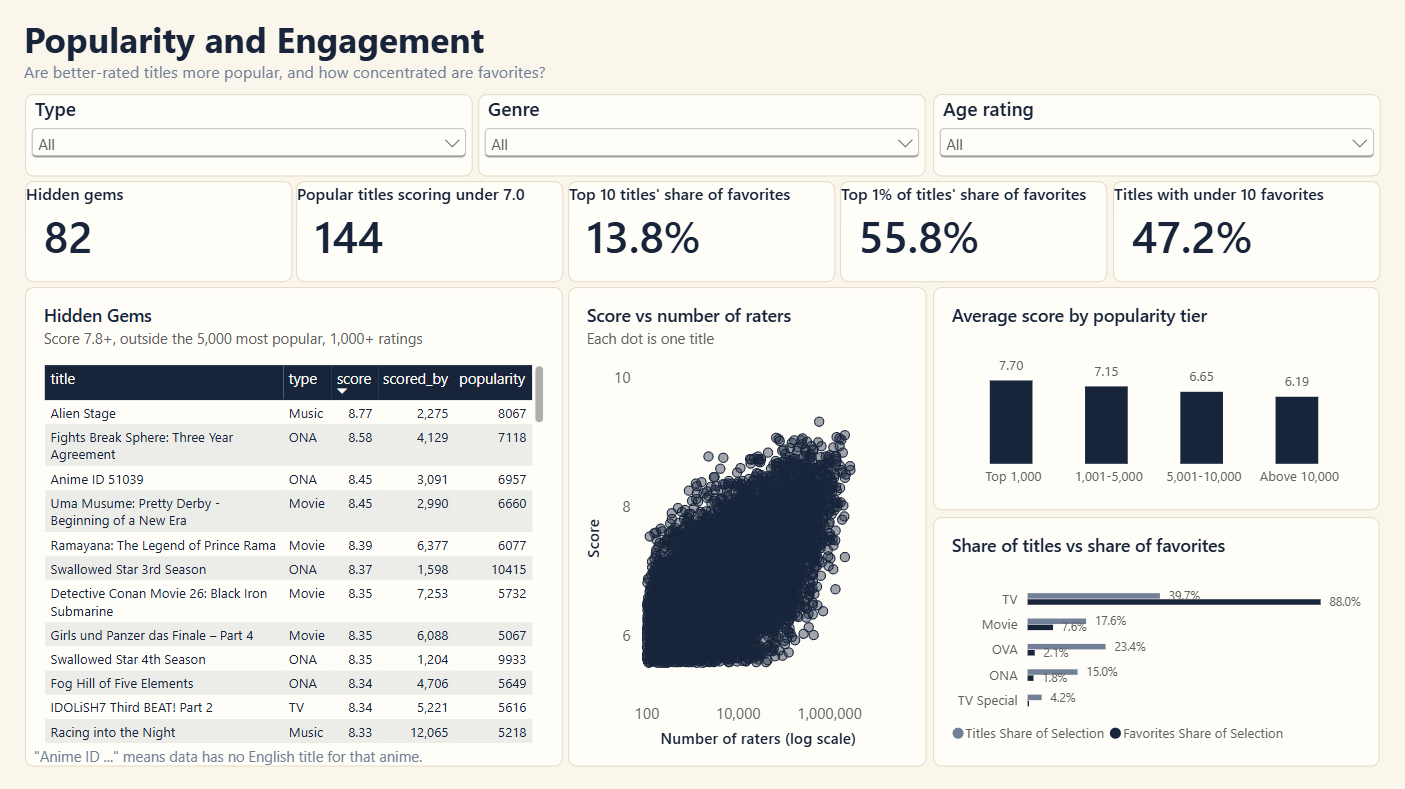

Layout of this report page (visuals, bound fields, positions):
{"tool":"powerbi","page":{"name":"Popularity and Engagement","canvas":[1280,720],"ordinal":2},"visuals":[{"type":"textbox","box":[24,14,700,48],"z":0,"group":"g1"},{"type":"group","id":"g1","title":"Group 1","box":[24,14,900.6,66.2],"z":0},{"type":"textbox","box":[24.2,56.1,900.5,24.2],"z":1000,"group":"g1"},{"type":"slicer","title":"Type","fields":{"Values":["anime_cleaned.type"]},"box":[24.3,86.6,407,74.9],"z":1000},{"type":"slicer","fields":{"Values":["anime_genres.genre"]},"box":[436.7,86.6,407,74.9],"z":2000},{"type":"slicer","title":"Age rating","fields":{"Values":["anime_cleaned.Age_can_read"]},"box":[850.1,86.6,406.6,74.9],"z":3000},{"type":"cardVisual","title":"Hidden gems","fields":{"Data":["_Measure.Hidden Gems"]},"box":[24.6,165.1,243,92],"z":4000},{"type":"cardVisual","title":"Top 1% of titles'' share of favorites","fields":{"Data":["_Measure.Top 1% Share of Favorites"]},"box":[765.9,165.8,243,92],"z":5000},{"type":"cardVisual","title":"Titles with under 10 favorites","fields":{"Data":["_Measure.Share with Under 10 Favorites"]},"box":[1013.2,165.1,243,92],"z":6000},{"type":"cardVisual","title":"Popular titles scoring under 7.0","fields":{"Data":["_Measure.Popular but Under 7.0"]},"box":[271,165.1,243,92],"z":7000},{"type":"cardVisual","title":"Top 10 titles'' share of favorites","fields":{"Data":["_Measure.Top 10 Share of Favorites"]},"box":[518.5,165.1,243,92],"z":8000},{"type":"clusteredColumnChart","title":"Average score by popularity tier","fields":{"Category":["anime_cleaned.popularity_category"],"Y":["_Measure.Avg Score"]},"box":[850,261.8,406.4,202.7],"z":9000},{"type":"clusteredBarChart","title":"Share of titles vs share of favorites","fields":{"Category":["anime_cleaned.type"],"Y":["_Measure.Titles Share of Selection","_Measure.Favorites Share of Selection"]},"box":[850,470.9,406.4,227.3],"z":10000},{"type":"scatterChart","title":"Score vs number of raters","fields":{"Category":["anime_cleaned.anime_id"],"X":["anime_cleaned.scored_by"],"Y":["anime_cleaned.score"]},"box":[518,262,326,436],"z":11000},{"type":"tableEx","title":"Hidden Gems","fields":{"Values":["anime_cleaned.title","anime_cleaned.type","anime_cleaned.score","anime_cleaned.scored_by","anime_cleaned.popularity"]},"box":[24.5,261.8,489.1,436.4],"z":12000},{"type":"textbox","box":[33.1,680,441.8,23.6],"z":13000}]}

Visuals, with their boxes in screenshot pixels (x1, y1, x2, y2), scaled from the page's 1280x720 canvas onto the 1405x789 screenshot:
textbox: box(26, 15, 795, 68)
"Group 1" group: box(26, 15, 1015, 88)
textbox: box(27, 61, 1015, 88)
"Type" slicer: box(27, 95, 473, 177)
slicer - anime_genres.genre: box(479, 95, 926, 177)
"Age rating" slicer: box(933, 95, 1379, 177)
"Hidden gems" cardVisual: box(27, 181, 294, 282)
"Top 1% of titles'' share of favorites" cardVisual: box(841, 182, 1107, 283)
"Titles with under 10 favorites" cardVisual: box(1112, 181, 1379, 282)
"Popular titles scoring under 7.0" cardVisual: box(297, 181, 564, 282)
"Top 10 titles'' share of favorites" cardVisual: box(569, 181, 836, 282)
"Average score by popularity tier" clusteredColumnChart: box(933, 287, 1379, 509)
"Share of titles vs share of favorites" clusteredBarChart: box(933, 516, 1379, 765)
"Score vs number of raters" scatterChart: box(569, 287, 926, 765)
"Hidden Gems" tableEx: box(27, 287, 564, 765)
textbox: box(36, 745, 521, 771)
